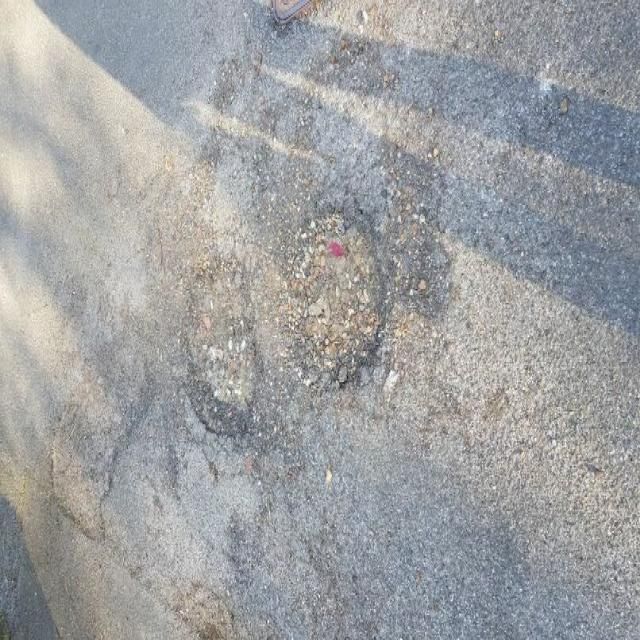Pothole: (283, 200, 391, 391), (177, 243, 264, 450)
